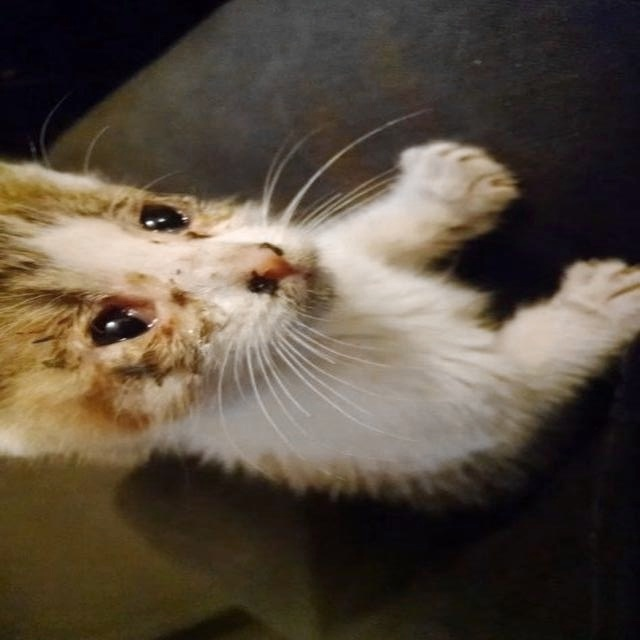eye_infection: (93, 285, 161, 347), (141, 192, 195, 245)
